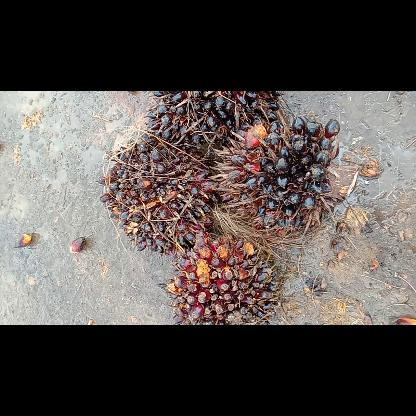TBS abnormal: (207, 116, 359, 242), (143, 91, 287, 157)
TBS masak: (92, 130, 220, 254), (164, 234, 284, 324)
